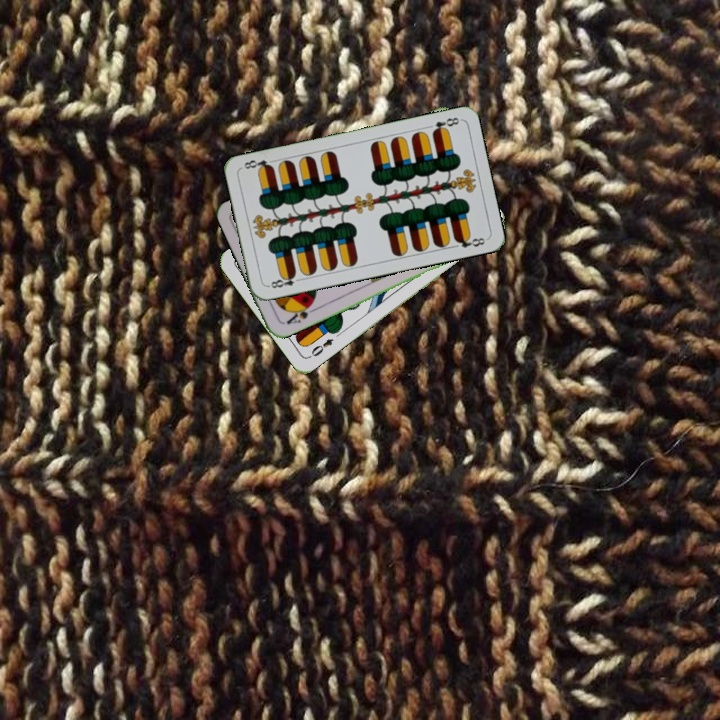E8: (264, 270, 304, 291), (428, 113, 463, 136)
EO: (305, 334, 336, 361)
SA: (282, 299, 318, 327)
